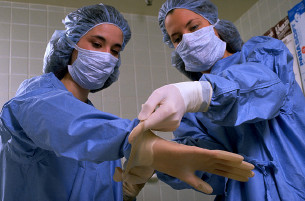face_mask: (164, 14, 227, 71), (70, 27, 121, 88)
